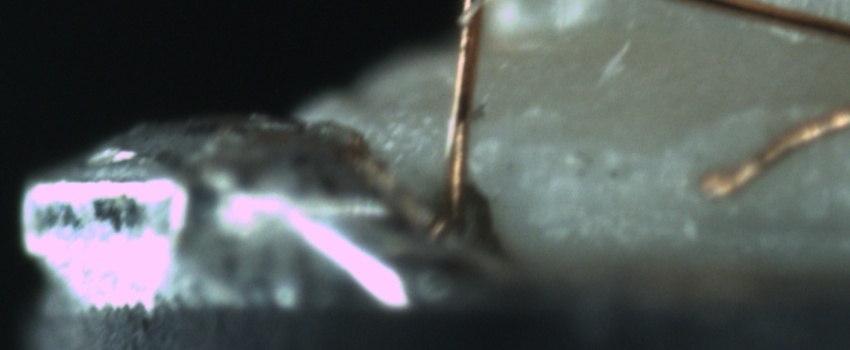DL: (675, 197, 850, 247)
